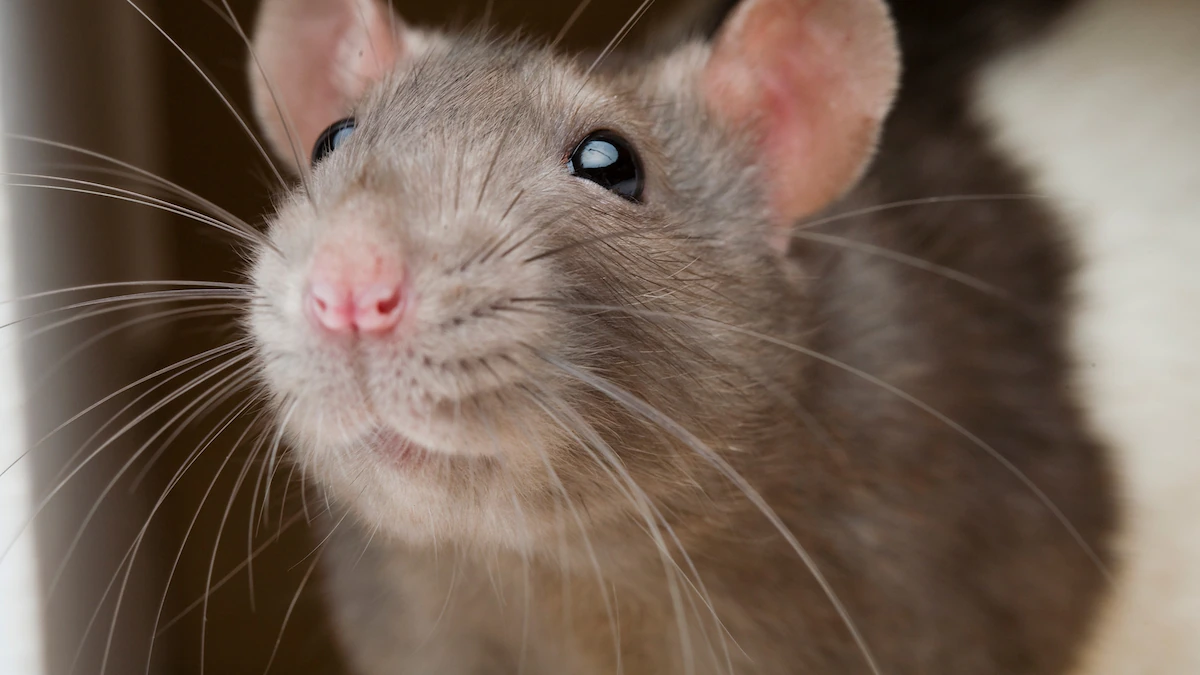Rat: (172, 2, 933, 603)
